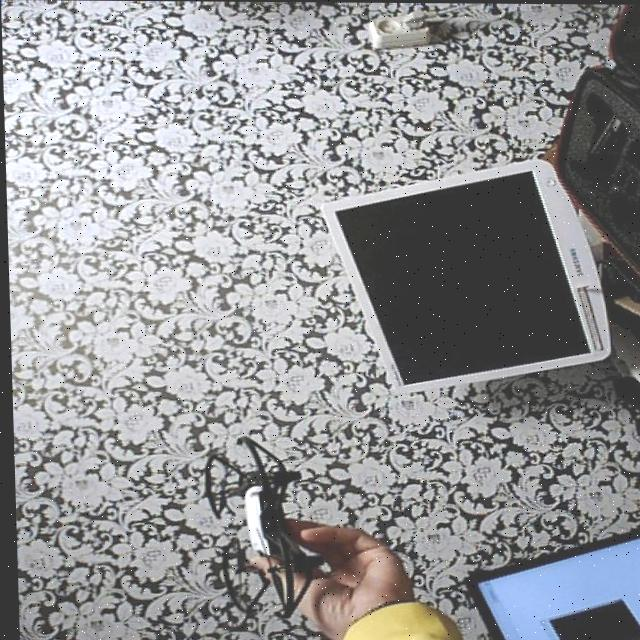drone: (190, 428, 343, 629)
